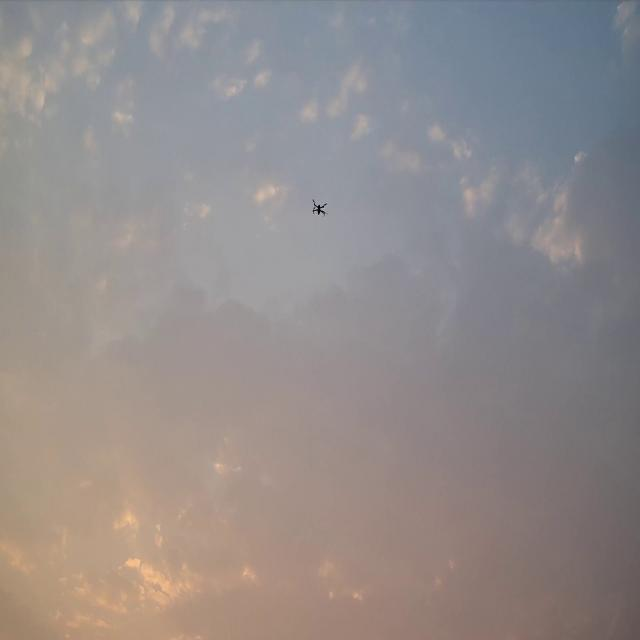UAV: (311, 198, 328, 217)
